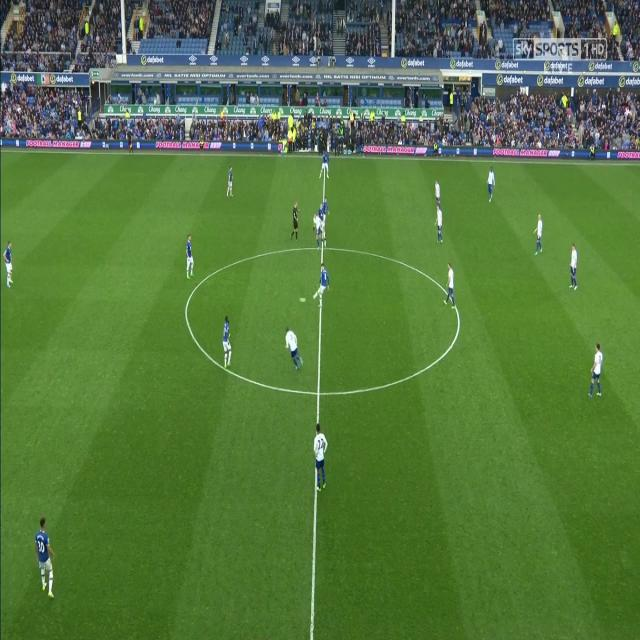Ball: (297, 292, 308, 306)
Player: (33, 516, 58, 600), (586, 342, 608, 402), (312, 423, 329, 496), (284, 324, 305, 378), (311, 260, 331, 310), (564, 241, 582, 292), (443, 262, 458, 314), (530, 211, 546, 256), (2, 238, 14, 290), (222, 314, 233, 370), (432, 202, 446, 245), (184, 233, 194, 283), (310, 211, 322, 251), (322, 194, 330, 248), (225, 162, 236, 200), (486, 165, 496, 206), (319, 154, 330, 180), (434, 177, 441, 208)
Referee: (288, 199, 302, 244)
